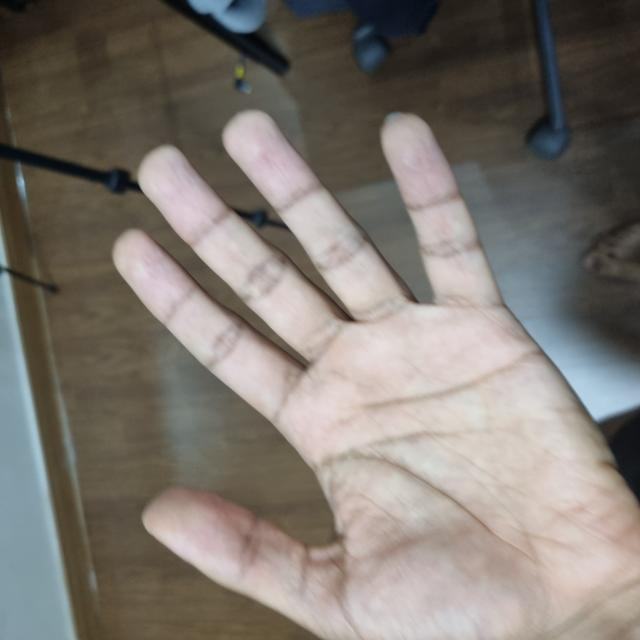Paper: (1, 115, 527, 640)
